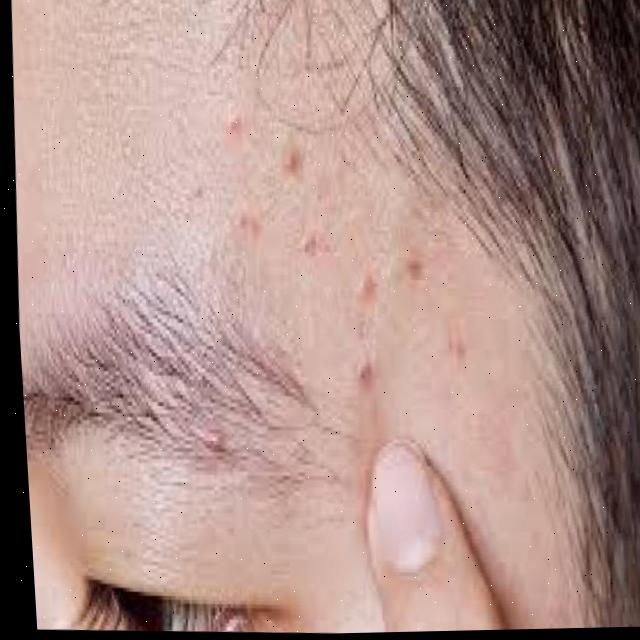Acne: (189, 102, 482, 398)
